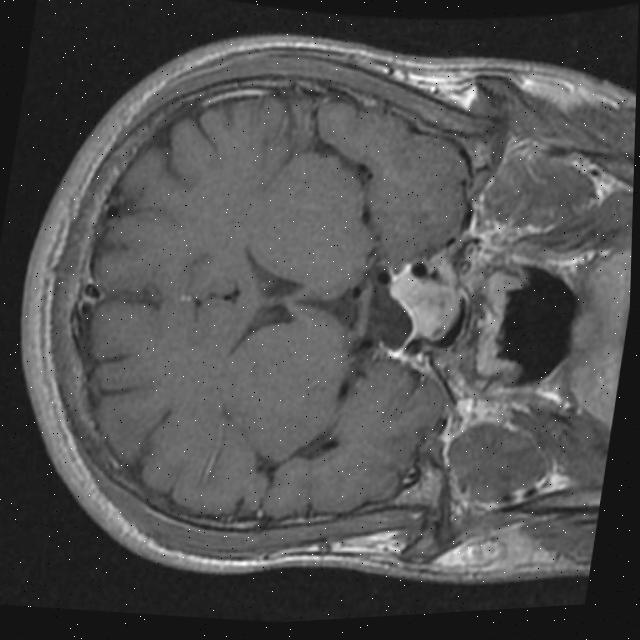Pituitary: (382, 265, 466, 348)
